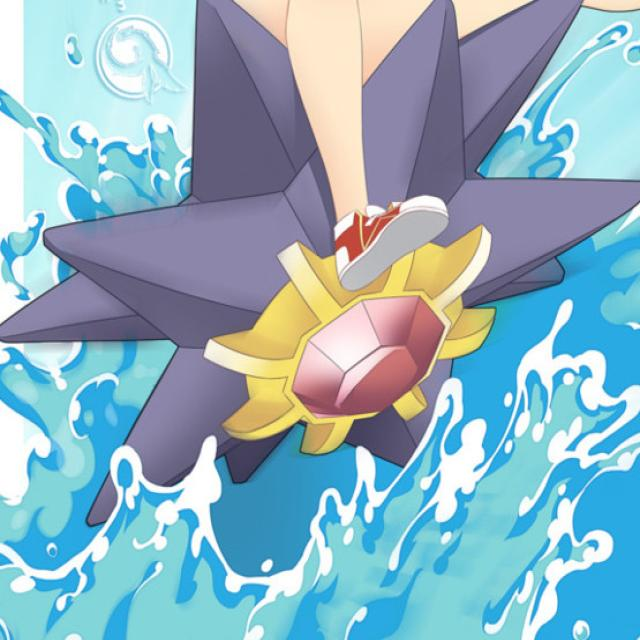Starmie: (58, 98, 563, 504)
